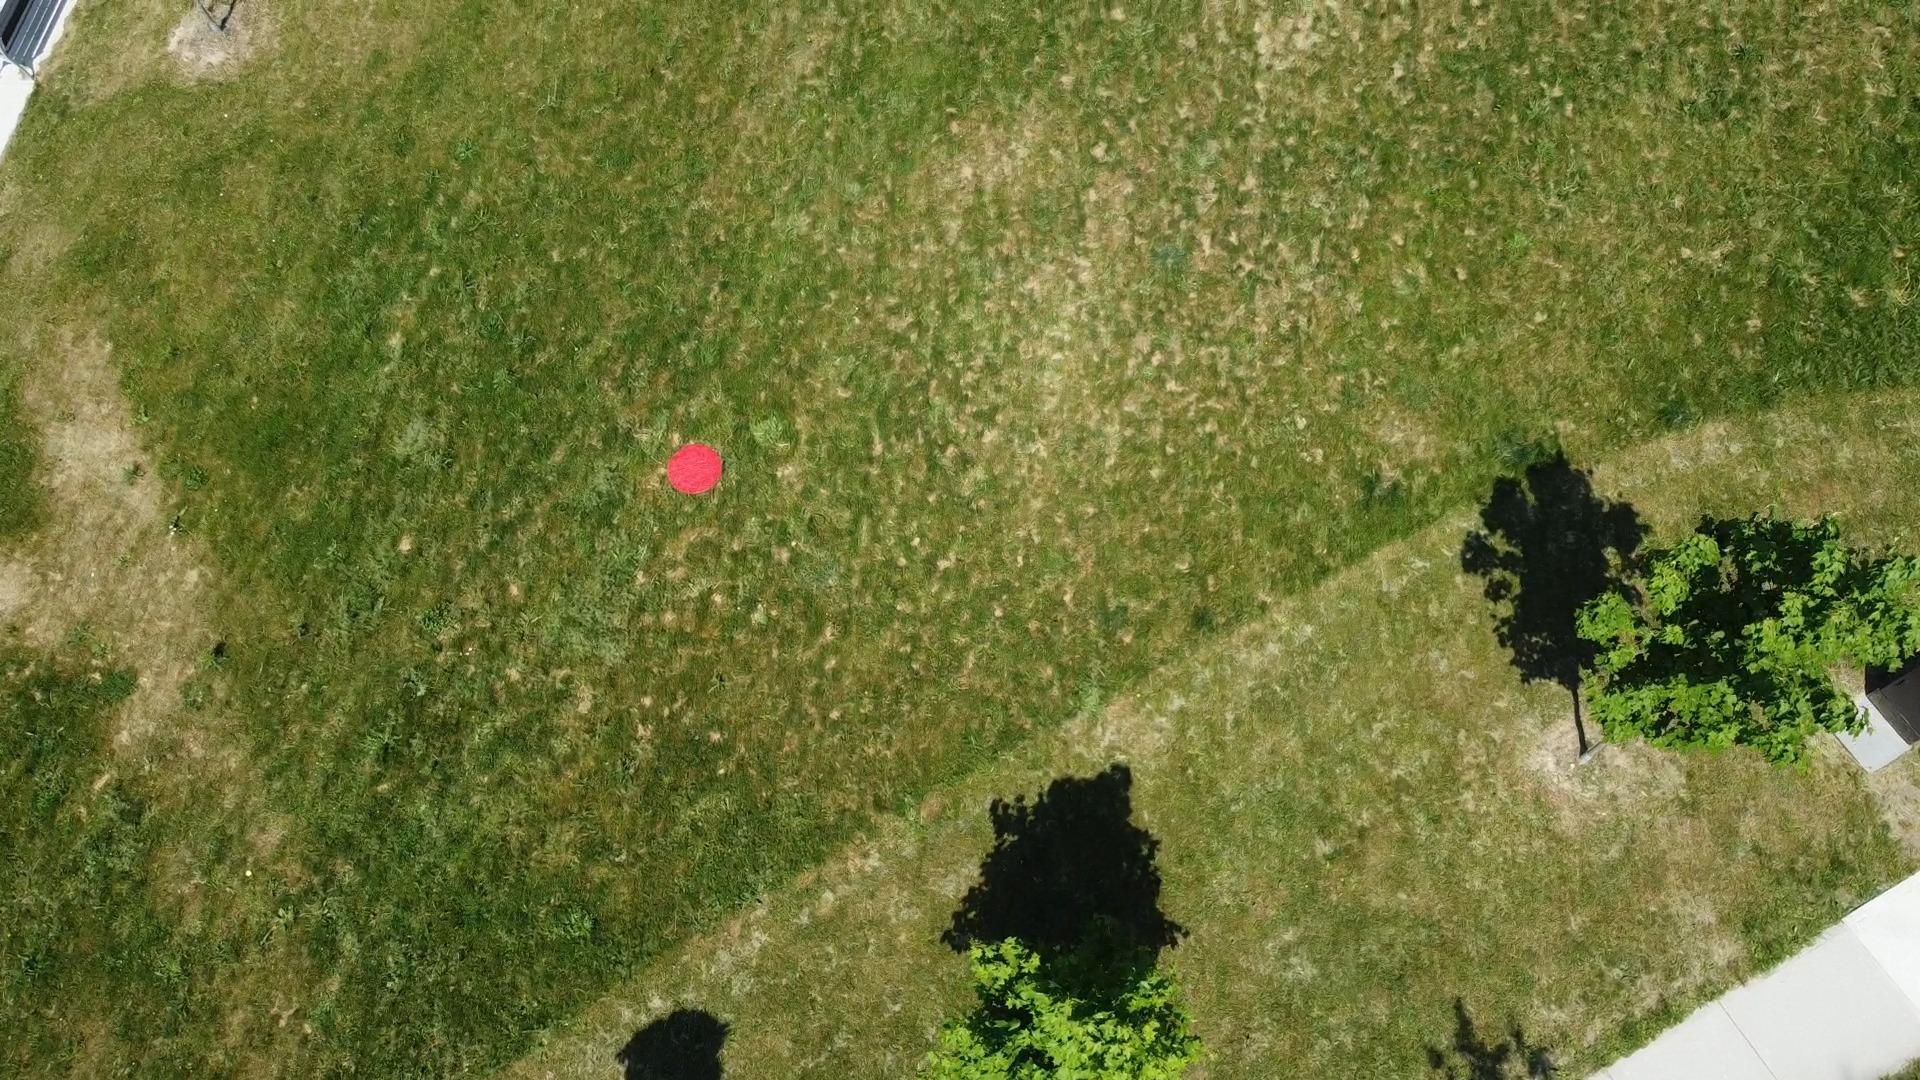Red: (665, 440, 727, 498)
